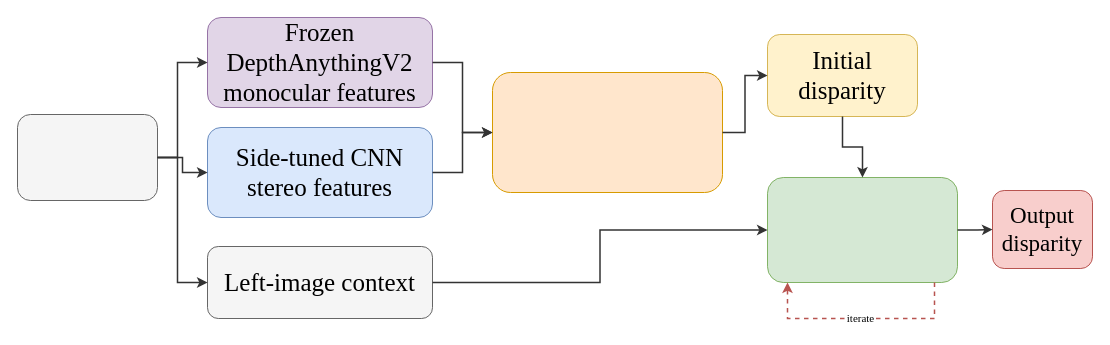
This 1110x345 diagram has some shape labels left out. The centre of each missing label's shape, as x and y in pixels:
Attentive hybrid cost filtering (axial + planar): [607,132]
Iterative ConvGRU refinement: [862,229]
Stereo pair: [87,157]
